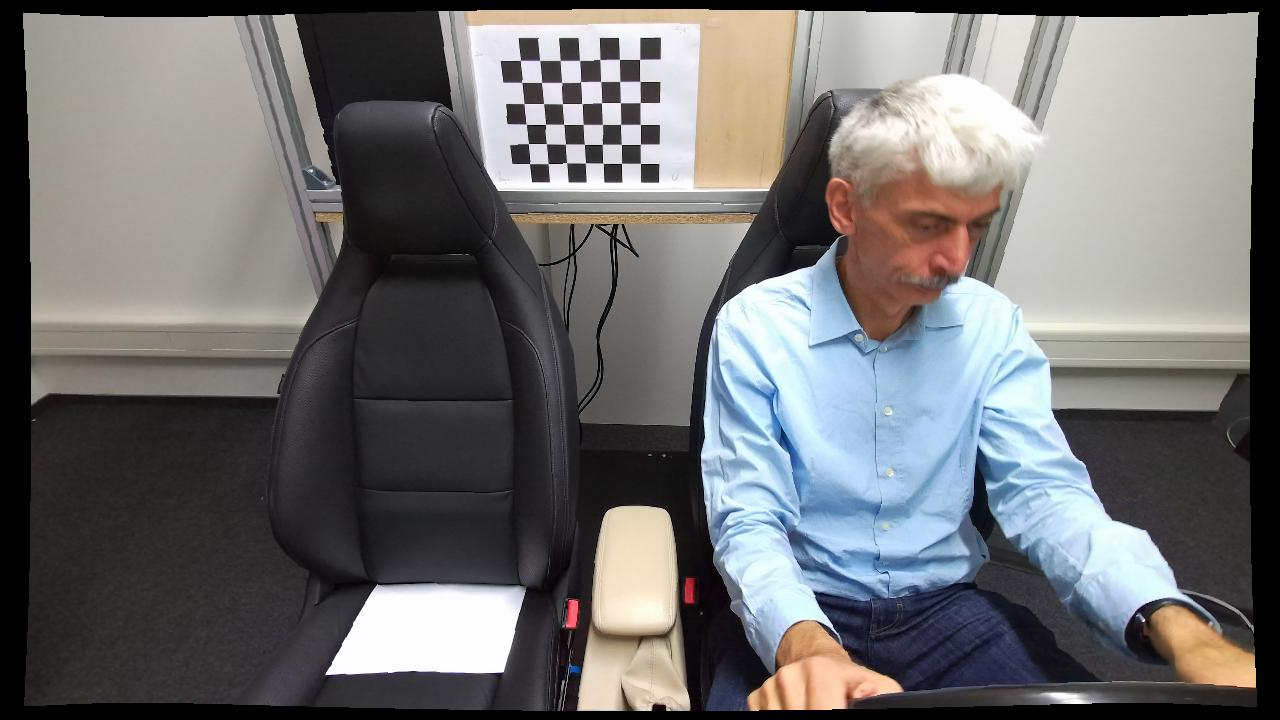Distracted: (699, 75, 1255, 714)
